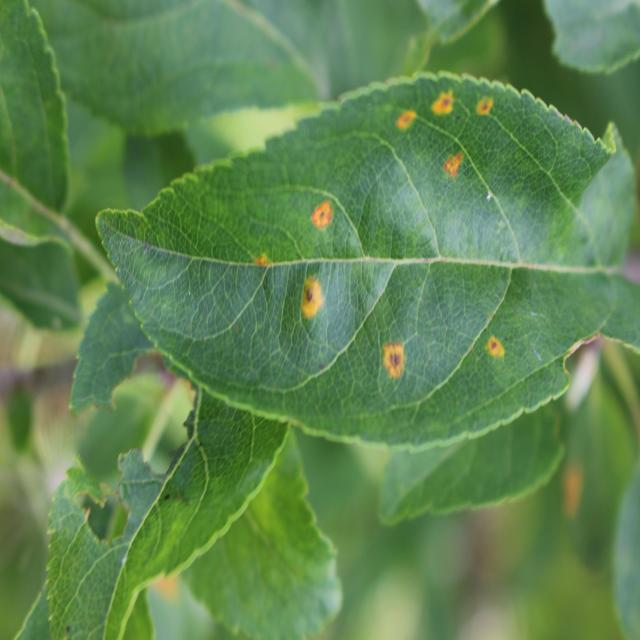Rust: (376, 332, 416, 404), (292, 272, 336, 332), (469, 89, 506, 132), (302, 189, 332, 237), (445, 143, 480, 182), (482, 317, 506, 373), (251, 234, 274, 287), (420, 90, 460, 119), (395, 99, 419, 142)
